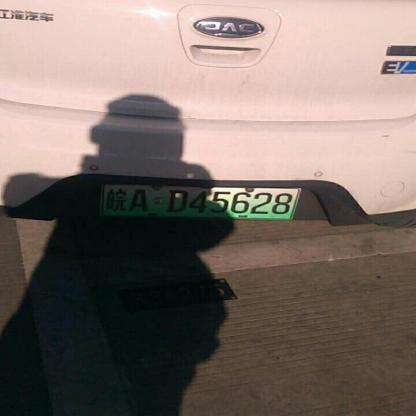lp: (102, 184, 298, 218)
